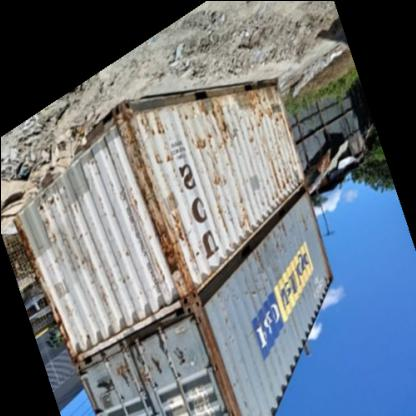Damage: (120, 109, 197, 286), (36, 192, 84, 268), (198, 100, 242, 152), (243, 85, 286, 131), (256, 159, 300, 199), (240, 242, 270, 300), (269, 218, 289, 253), (208, 161, 228, 192), (236, 196, 254, 228), (285, 308, 303, 338), (214, 197, 228, 233), (97, 282, 111, 314), (296, 214, 312, 240), (268, 134, 284, 156), (88, 256, 100, 278), (62, 303, 73, 321), (214, 290, 224, 308), (220, 316, 233, 328), (248, 138, 257, 146)
